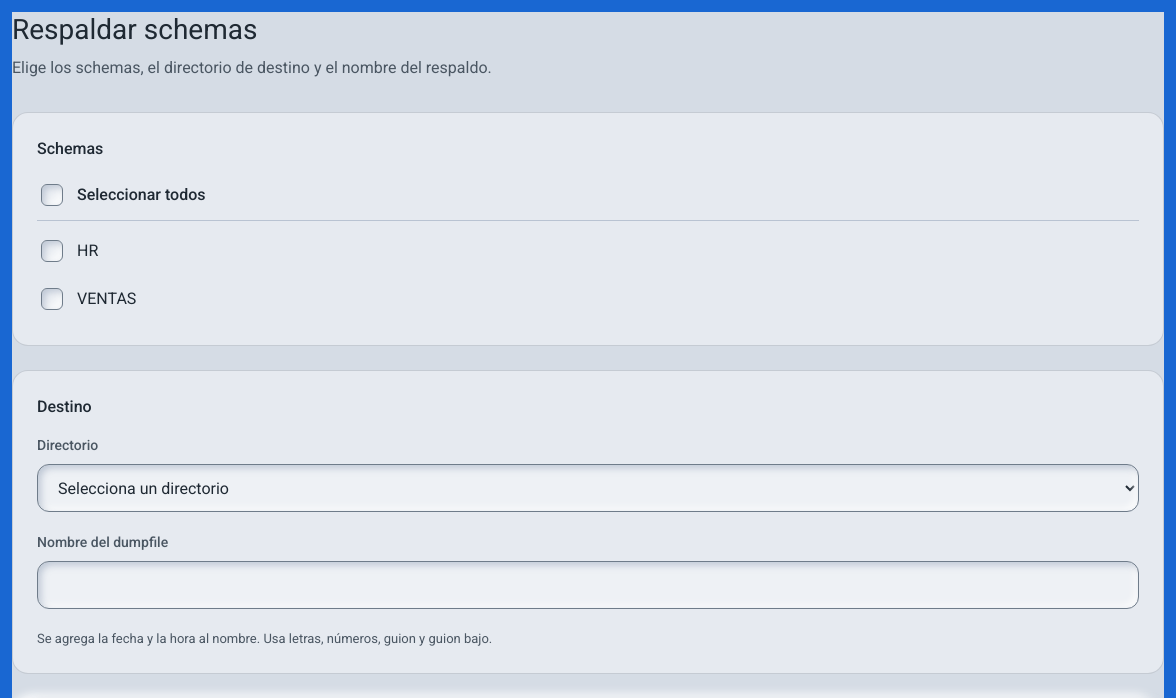
pantalla de respaldo de schemas › «Seleccionar todos» marca y desmarca todos los schemas
Expected: the checkbox labelled "HR" is shown, x1=41 y1=240 x2=63 y2=262
Click the checkbox labelled "Seleccionar todos".
click(52, 194)  # box x1=41 y1=184 x2=63 y2=206
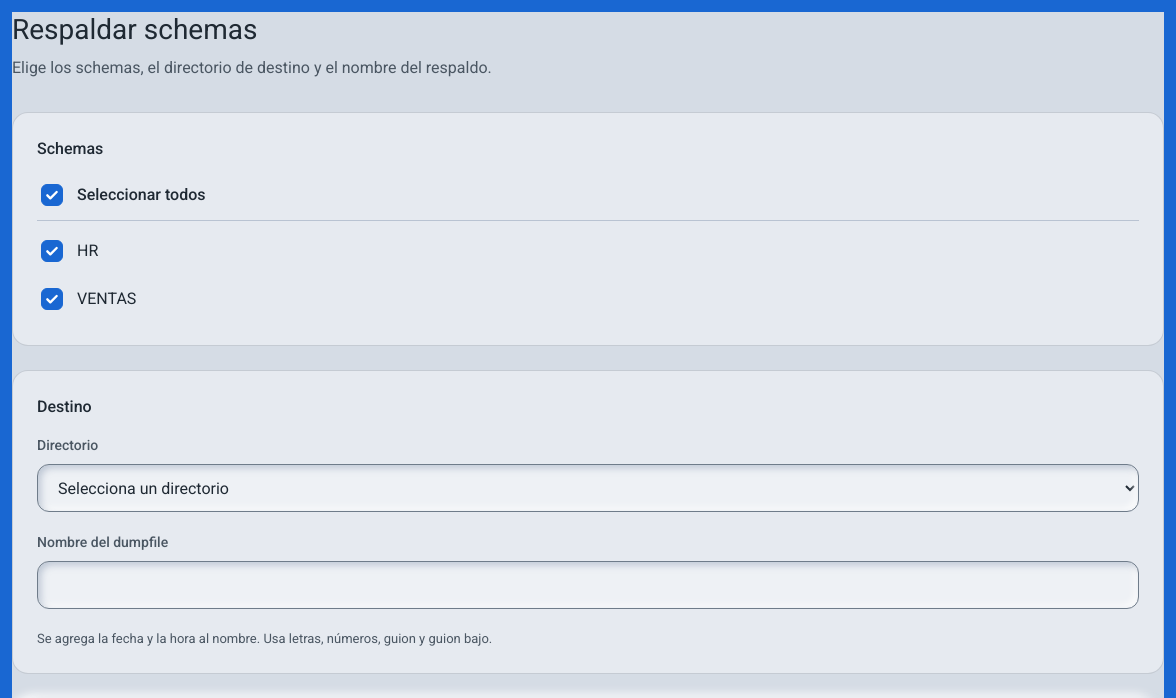
Expected: the checkbox labelled "HR" is checked, x1=41 y1=240 x2=63 y2=262
Expected: the checkbox labelled "VENTAS" is checked, x1=41 y1=288 x2=63 y2=310
Click the checkbox labelled "Seleccionar todos".
click(52, 194)  # box x1=41 y1=184 x2=63 y2=206
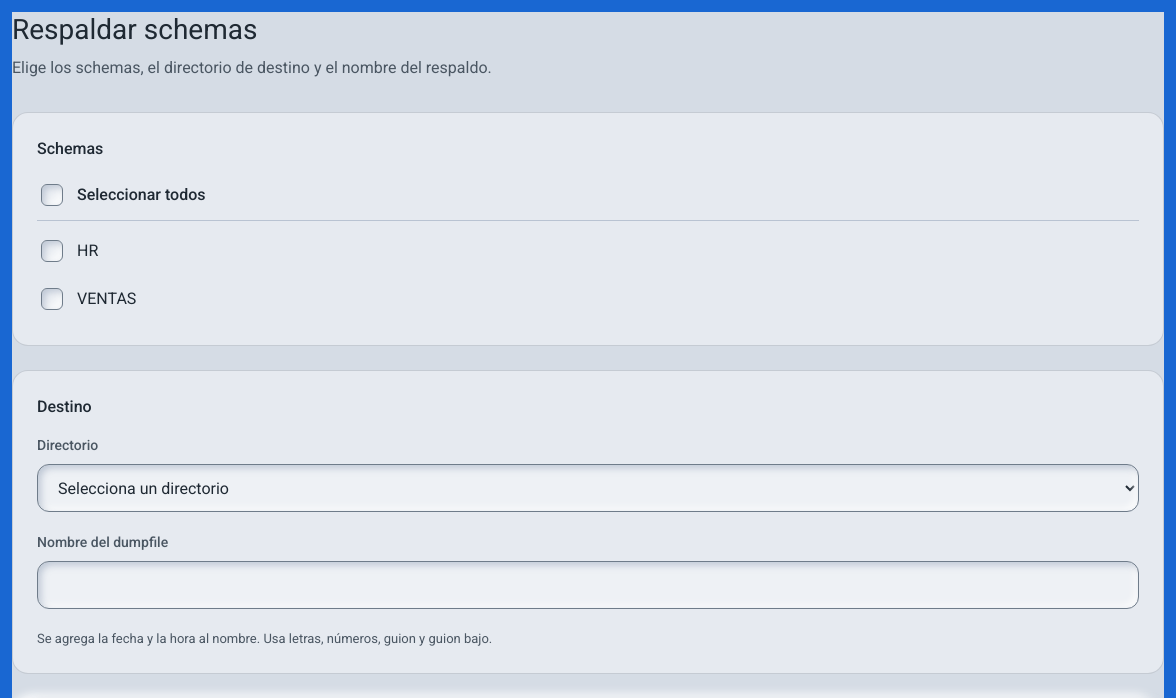
Expected: the checkbox labelled "HR" is not checked, x1=41 y1=240 x2=63 y2=262
Expected: the checkbox labelled "VENTAS" is not checked, x1=41 y1=288 x2=63 y2=310
